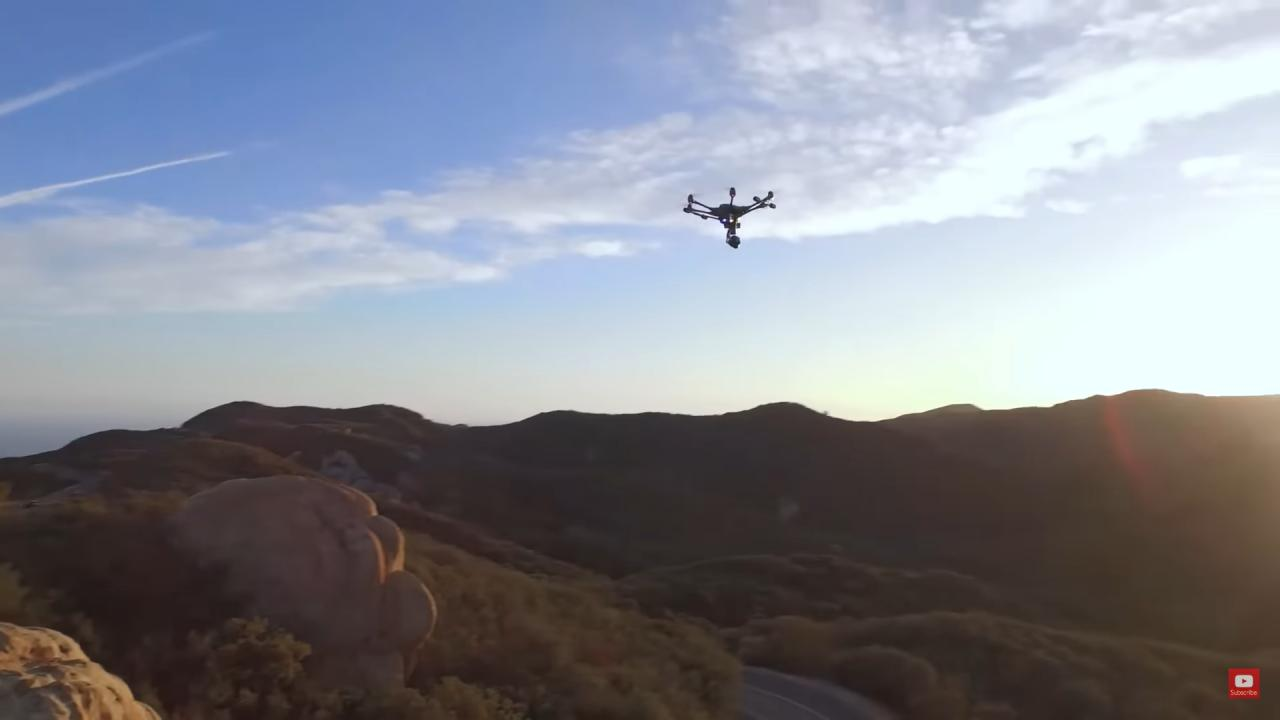Drone: (674, 180, 783, 258)
